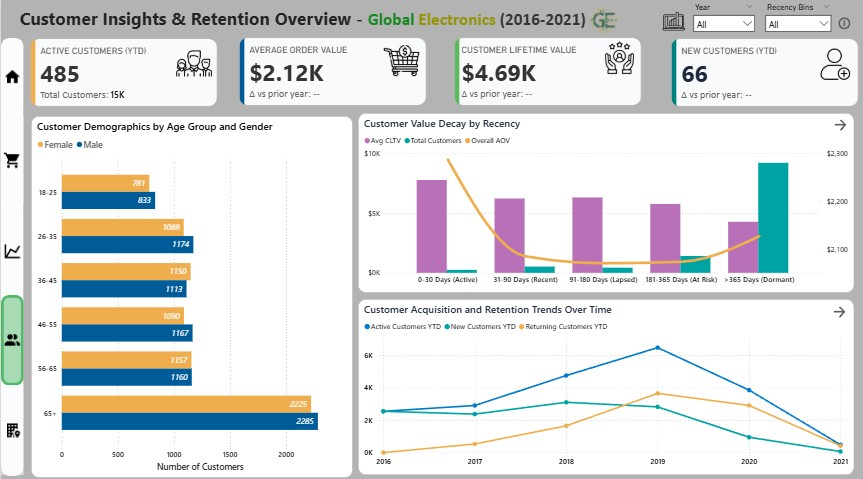

What the dashboard file says about the page in this screenshot:
{"tool":"powerbi","page":{"name":"Customers","canvas":[1600,900],"ordinal":3},"visuals":[{"type":"textbox","box":[30,10,1062.5,60],"z":0},{"type":"cardVisual","fields":{"Data":["customers.Customer Average Order Value"]},"box":[430,57.5,370,150],"z":0,"group":"g2"},{"type":"cardVisual","fields":{"Data":["customers.Avg CLTV"]},"box":[827.5,57.5,370,150],"z":0,"group":"g3"},{"type":"cardVisual","fields":{"Data":["customers.Active Customers YTD"]},"box":[41.7,60,370,150],"z":0,"group":"g1"},{"type":"cardVisual","fields":{"Data":["customers.New Customers YTD"]},"box":[1230,60,370,150],"z":0,"group":"g4"},{"type":"shape","box":[0,70,42,811],"z":0,"group":"g7"},{"type":"lineClusteredColumnComboChart","title":"Revenue and Profit by Age Group and Gender","fields":{"Y":["sales_final.Total Revenue"],"Y2":["sales_final.Total Profit"],"Series":["customers.Gender"],"Category":["customers.Age Group"]},"box":[662,214,930,332.5],"z":0,"group":"g5"},{"type":"lineChart","title":"Customer Acquisition and Retention Trends Over Time","fields":{"Category":["Calendar.Year"],"Y":["customers.Active Customers YTD","customers.New Customers YTD","customers.Returning Customers YTD"]},"box":[661.1,553.7,918.5,325.9],"z":0,"group":"g6"},{"type":"image","box":[1072.1,7.9,85.7,60],"z":1000},{"type":"image","box":[1107.1,64.9,75.9,83.3],"z":1000,"group":"g3"},{"type":"image","box":[704.1,70.5,75.9,83.3],"z":1000,"group":"g2"},{"type":"image","box":[1506.3,78.6,75.7,82.9],"z":1000,"group":"g4"},{"type":"image","box":[318.2,80.4,77.8,75.9],"z":1000,"group":"g1"},{"type":"actionButton","box":[0,212.9,42,167.5],"z":1000,"group":"g7"},{"type":"actionButton","box":[1549.3,223.1,33.6,30],"z":1000,"group":"g5"},{"type":"actionButton","box":[1536.5,563,33.2,30],"z":1000,"group":"g6"},{"type":"image","title":"More_visuals","box":[1221.2,11.2,51.2,56.2],"z":1125},{"type":"group","id":"g1","title":"Card_1","box":[41.7,60,370,150],"z":1250},{"type":"group","id":"g2","title":"Card_2","box":[430,57.5,370,150],"z":1375},{"type":"group","id":"g3","title":"Card_3","box":[827.5,57.5,370,150],"z":1500},{"type":"group","id":"g4","title":"Card_4","box":[1230,60,370,150],"z":1750},{"type":"clusteredBarChart","title":"Customer Demographics by Age Group and Gender","fields":{"Y":["customers.Total Customers"],"Series":["customers.Gender"],"Category":["customers.Age Group"]},"box":[55.7,214.3,595.7,670],"z":2000},{"type":"actionButton","box":[0,380.3,42,167.5],"z":2000,"group":"g7"},{"type":"actionButton","box":[1546.4,28.2,33.6,30.9],"z":3000},{"type":"actionButton","box":[0,713.4,42,167.5],"z":3000,"group":"g7"},{"type":"group","id":"g5","title":"Chart 1","box":[662,214,930,332],"z":4000},{"type":"actionButton","box":[0,545.9,42,167.5],"z":4000,"group":"g7"},{"type":"actionButton","box":[0,70,42,144],"z":4500,"group":"g7"},{"type":"group","id":"g6","title":"Chart 4","box":[661.1,553.7,918.5,325.9],"z":7000},{"type":"group","id":"g7","title":"Page_nav","box":[0,70,42,811],"z":7500},{"type":"slicer","fields":{"Values":["Calendar.Year"]},"box":[1272,0,134,68],"z":11000},{"type":"slicer","fields":{"Values":["customers.Recency Bins"]},"box":[1406,0,142,68],"z":12000}]}

Visuals, with their boxes in screenshot pixels (x1, y1, x2, y2), scaled from the page's 1600x900 canvas onto the 863x479 screenshot:
textbox: detection(16, 5, 589, 37)
cardVisual - customers.Customer Average Order Value: detection(232, 31, 432, 110)
cardVisual - customers.Avg CLTV: detection(446, 31, 646, 110)
cardVisual - customers.Active Customers YTD: detection(22, 32, 222, 112)
cardVisual - customers.New Customers YTD: detection(663, 32, 862, 112)
shape: detection(0, 37, 23, 469)
"Revenue and Profit by Age Group and Gender" lineClusteredColumnComboChart: detection(357, 114, 859, 291)
"Customer Acquisition and Retention Trends Over Time" lineChart: detection(357, 295, 852, 468)
image: detection(578, 4, 624, 36)
image: detection(597, 35, 638, 79)
image: detection(380, 38, 421, 82)
image: detection(812, 42, 853, 86)
image: detection(172, 43, 214, 83)
actionButton: detection(0, 113, 23, 202)
actionButton: detection(836, 119, 854, 135)
actionButton: detection(829, 300, 847, 316)
"More_visuals" image: detection(659, 6, 686, 36)
"Card_1" group: detection(22, 32, 222, 112)
"Card_2" group: detection(232, 31, 432, 110)
"Card_3" group: detection(446, 31, 646, 110)
"Card_4" group: detection(663, 32, 862, 112)
"Customer Demographics by Age Group and Gender" clusteredBarChart: detection(30, 114, 351, 471)
actionButton: detection(0, 202, 23, 292)
actionButton: detection(834, 15, 852, 31)
actionButton: detection(0, 380, 23, 469)
"Chart 1" group: detection(357, 114, 859, 291)
actionButton: detection(0, 291, 23, 380)
actionButton: detection(0, 37, 23, 114)
"Chart 4" group: detection(357, 295, 852, 468)
"Page_nav" group: detection(0, 37, 23, 469)
slicer - Calendar.Year: detection(686, 0, 758, 36)
slicer - customers.Recency Bins: detection(758, 0, 835, 36)
